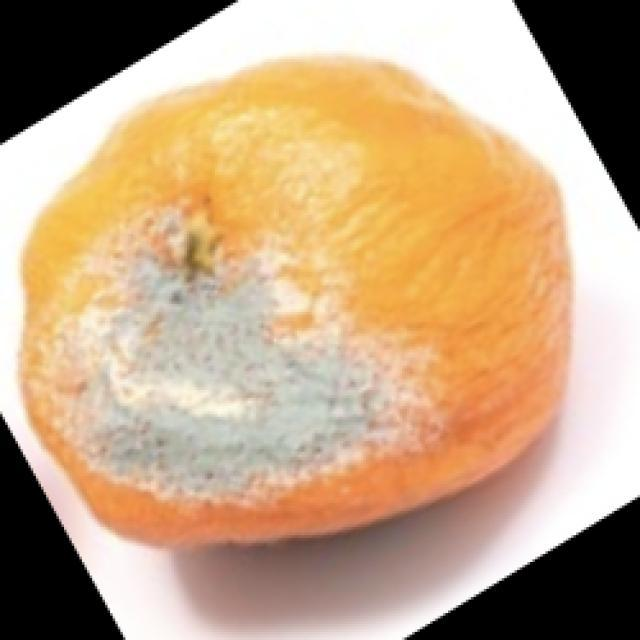sedikit-busuk: (21, 57, 571, 544), (71, 251, 390, 500)
